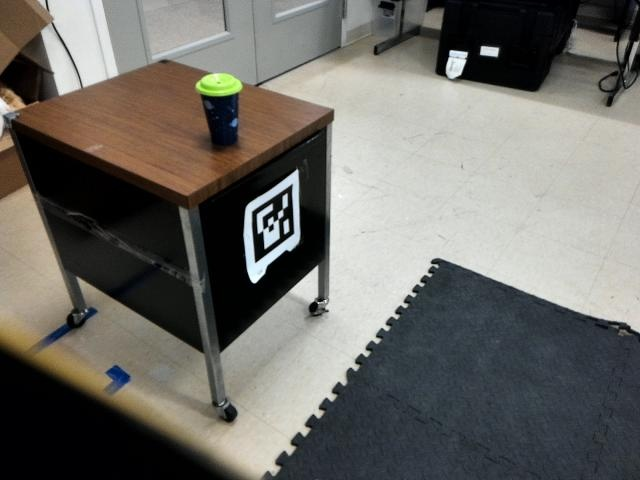water_cup: (195, 72, 241, 143)
